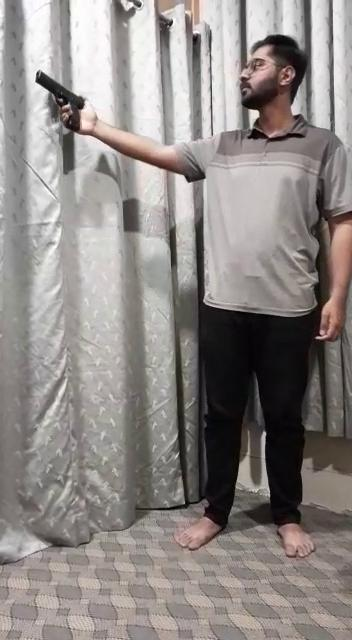criminal: (33, 32, 352, 560)
weapon: (33, 69, 89, 137)
